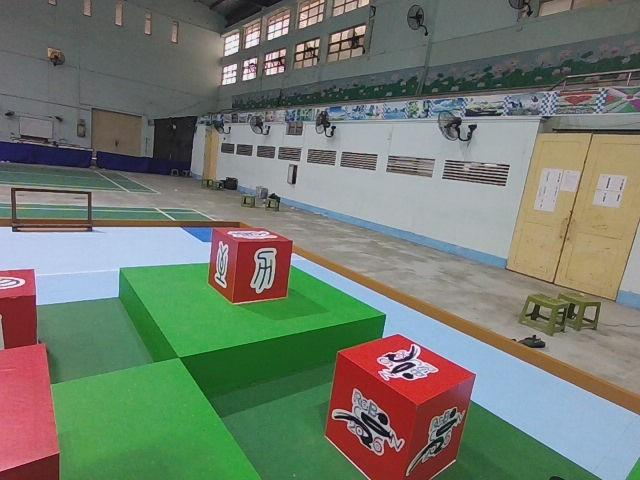R1: (323, 331, 478, 480)
R2 Fake: (207, 223, 295, 305)
